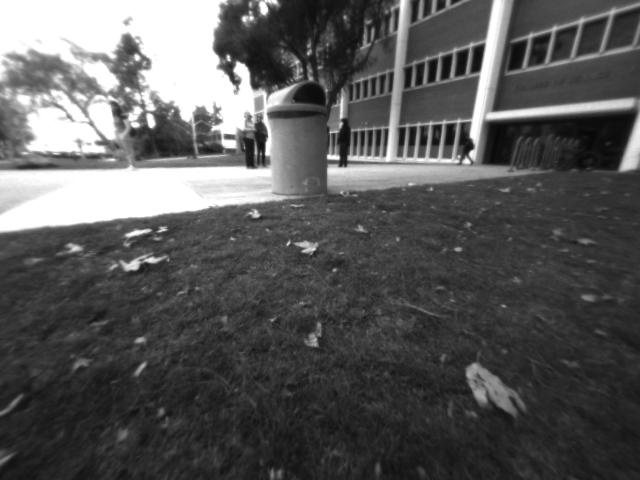trashcan: (264, 79, 334, 201)
